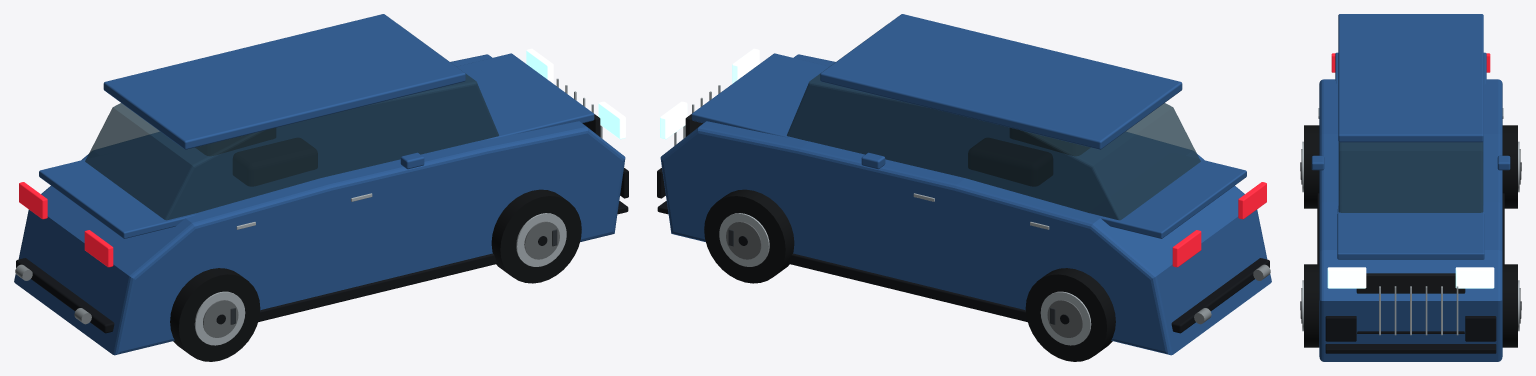
File: ford_e_series_econoline.glb
3 views of the same model, side by side, from view 1: azimuth 30°, elevation 25°; view 2: azimuth 150°, elevation 25°; view 3: azimuth 270°, elevation 25° (orthographic). The views are drawn at different scales.
Parts seen in each view (by area): view 1: sculpted_body, glasshouse, roof, hood_center, rear_deck, rear_right_wheel_tire, front_right_wheel_tire, side_skirt_1, seat_1, rear_diffuser, rear_right_wheel_rim, front_right_wheel_rim (+7 smaller); view 2: sculpted_body, glasshouse, roof, hood_center, rear_deck, rear_left_wheel_tire, front_left_wheel_tire, side_skirt_-1, seat_-1, rear_diffuser, rear_left_wheel_rim, front_left_wheel_rim (+7 smaller); view 3: sculpted_body, roof, glasshouse, hood_center, front_grille, front_splitter, front_left_wheel_tire, front_right_wheel_tire, rear_left_wheel_tire, rear_right_wheel_tire, headlight_right, headlight_left (+7 smaller).
Part boxes in pixels (x1,y1,x2,y2): sculpted_body: [14, 54, 625, 355]; glasshouse: [85, 25, 498, 220]; roof: [103, 14, 465, 149]; hood_center: [417, 53, 594, 140]; rear_deck: [39, 153, 198, 238]; rear_right_wheel_tire: [170, 268, 260, 361]; front_right_wheel_tire: [491, 189, 581, 283]; side_skirt_1: [258, 253, 497, 322]; seat_1: [233, 138, 317, 185]; rear_diffuser: [16, 258, 114, 333]; rear_right_wheel_rim: [194, 291, 245, 345]; front_right_wheel_rim: [516, 213, 566, 266]; sculpted_body: [660, 54, 1271, 355]; glasshouse: [787, 25, 1200, 220]; roof: [820, 14, 1182, 149]; hood_center: [691, 53, 868, 140]; rear_deck: [1087, 153, 1246, 238]; rear_left_wheel_tire: [1025, 268, 1115, 361]; front_left_wheel_tire: [704, 189, 794, 283]; side_skirt_-1: [788, 253, 1027, 322]; seat_-1: [968, 138, 1052, 185]; rear_diffuser: [1171, 258, 1269, 333]; rear_left_wheel_rim: [1040, 291, 1091, 345]; front_left_wheel_rim: [719, 213, 769, 266]; sculpted_body: [1319, 79, 1502, 361]; roof: [1338, 14, 1483, 142]; glasshouse: [1338, 142, 1483, 212]; hood_center: [1337, 205, 1484, 259]; front_grille: [1356, 273, 1465, 333]; front_splitter: [1325, 344, 1496, 353]; front_left_wheel_tire: [1502, 264, 1517, 347]; front_right_wheel_tire: [1304, 264, 1319, 347]; rear_left_wheel_tire: [1502, 125, 1517, 208]; rear_right_wheel_tire: [1304, 125, 1319, 208]; headlight_right: [1327, 267, 1366, 288]; headlight_left: [1455, 267, 1494, 288].
Bounding box in the file's own units: 5.66 × 2.1 × 2.28.
